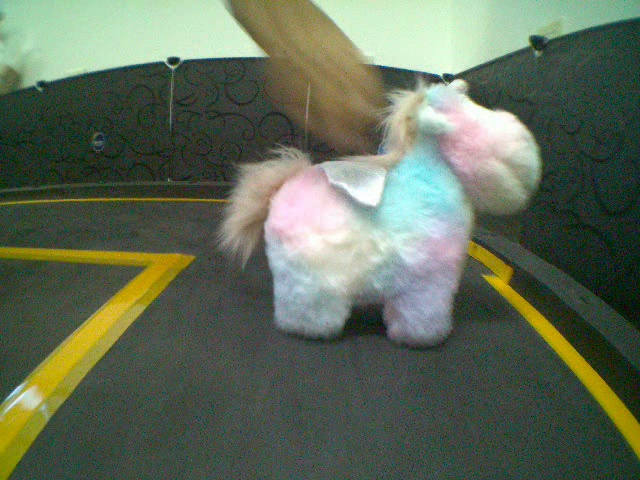unicorn: (216, 74, 540, 352)
